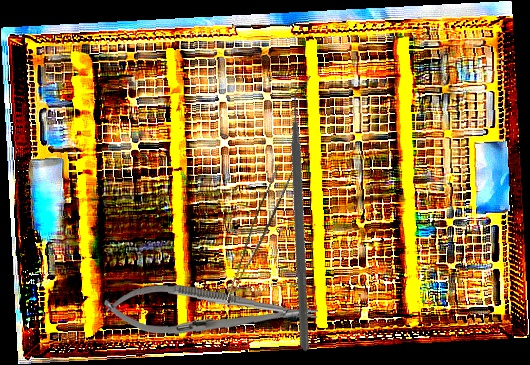Chopper: (177, 74, 438, 353)
Needle Holder: (102, 282, 320, 340)
Tissue Forceps: (225, 163, 294, 309)
